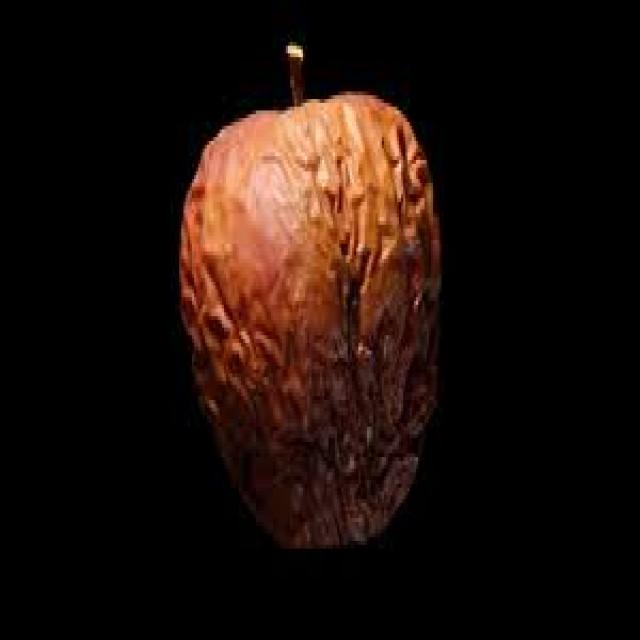overripe: (177, 82, 448, 557)
